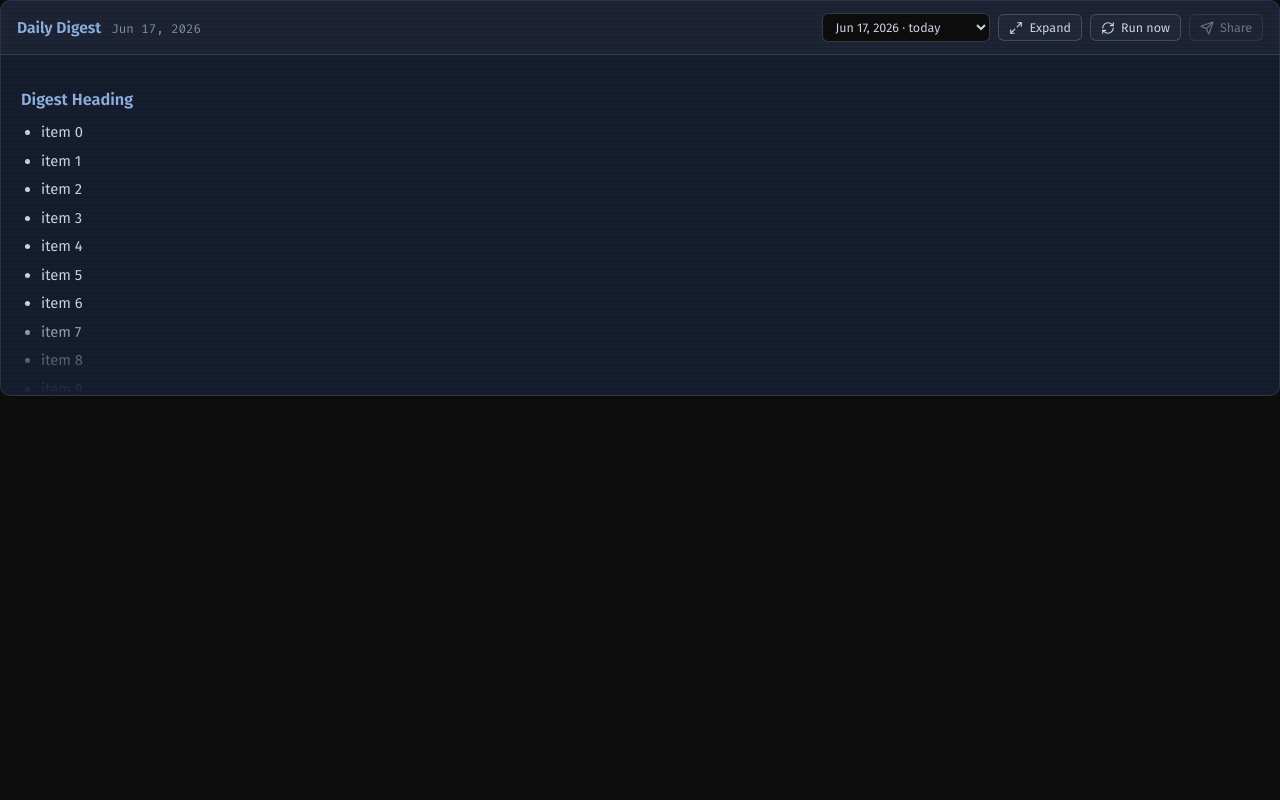
Test: ReportFeed › the tile shows a truncated preview; Expand opens a modal with the full report
Expected: the list item "item 0" is shown, [41,123,83,141]
Expected: the text "DEEP_MARKER_TEXT" is not shown
Click the button "Expand" at point(1040, 28), box [998,14,1082,41]
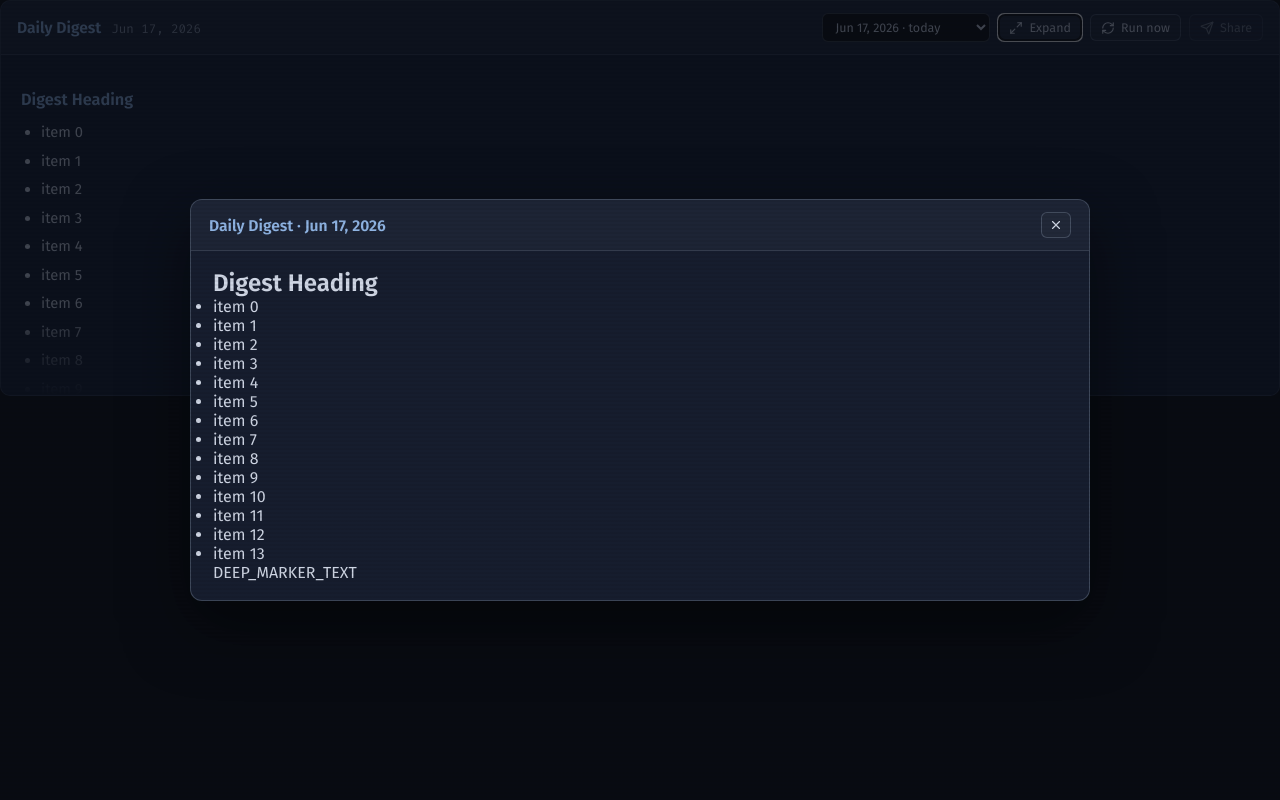
Expected: the text "DEEP_MARKER_TEXT" is shown, [213,563,357,582]
